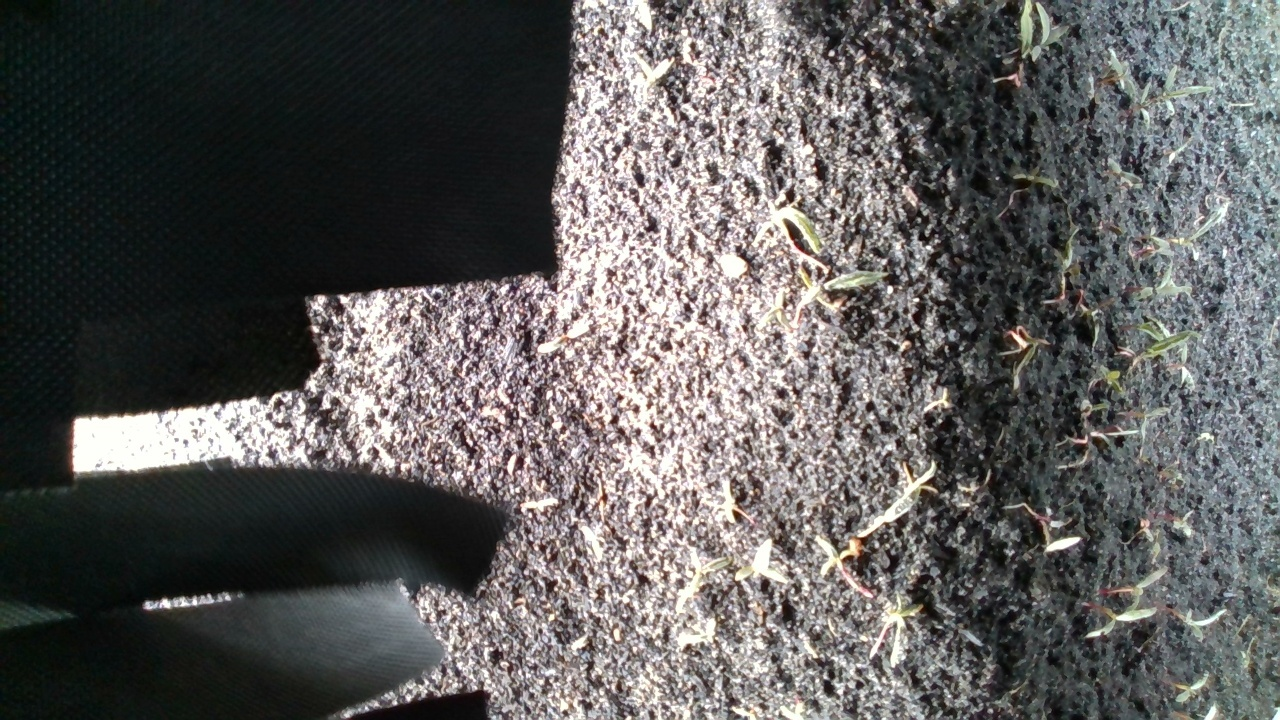weed: (533, 321, 592, 354)
